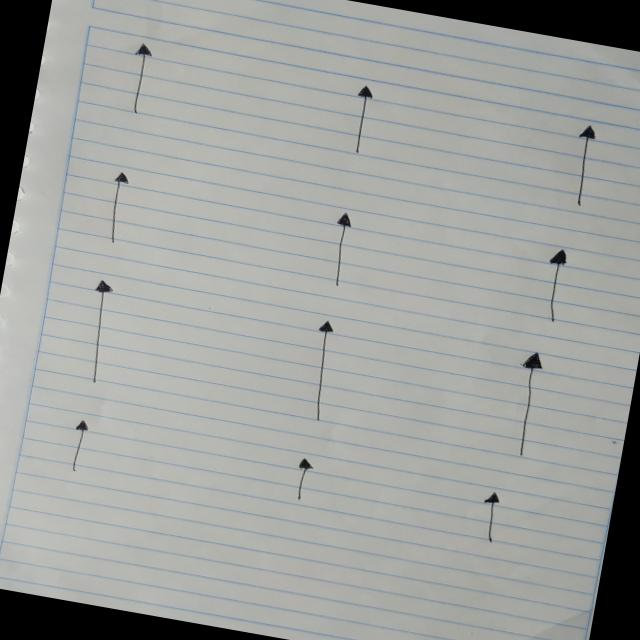arrow_line_up: (503, 350, 552, 460), (74, 276, 122, 386), (299, 317, 343, 424), (321, 208, 361, 292), (534, 246, 574, 324), (566, 121, 601, 210), (122, 38, 156, 115), (343, 82, 378, 156), (101, 167, 134, 243), (65, 416, 95, 476), (473, 487, 502, 548), (288, 452, 316, 504)
